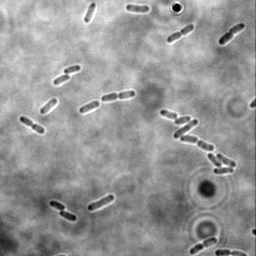Dividing: (217, 22, 246, 47), (166, 23, 196, 45), (180, 134, 216, 152), (187, 236, 219, 256), (18, 115, 47, 137), (100, 89, 136, 103), (214, 247, 249, 256), (58, 209, 79, 223), (48, 199, 66, 211)
Rod: (86, 193, 115, 214), (172, 118, 199, 140), (38, 96, 60, 117), (77, 99, 102, 116), (216, 151, 238, 169), (83, 1, 98, 25), (52, 73, 73, 87), (125, 3, 151, 14), (206, 152, 223, 168), (62, 63, 82, 76), (159, 108, 179, 121), (212, 166, 236, 176), (173, 115, 193, 125)
